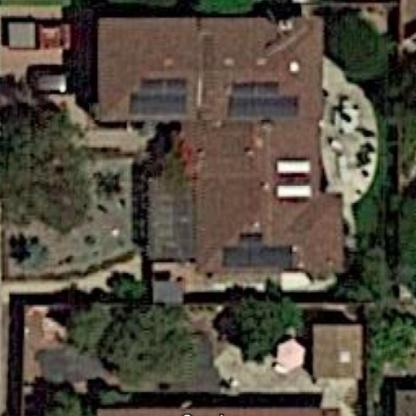solar_panel: (220, 70, 304, 125), (218, 228, 298, 276), (123, 70, 193, 120)
